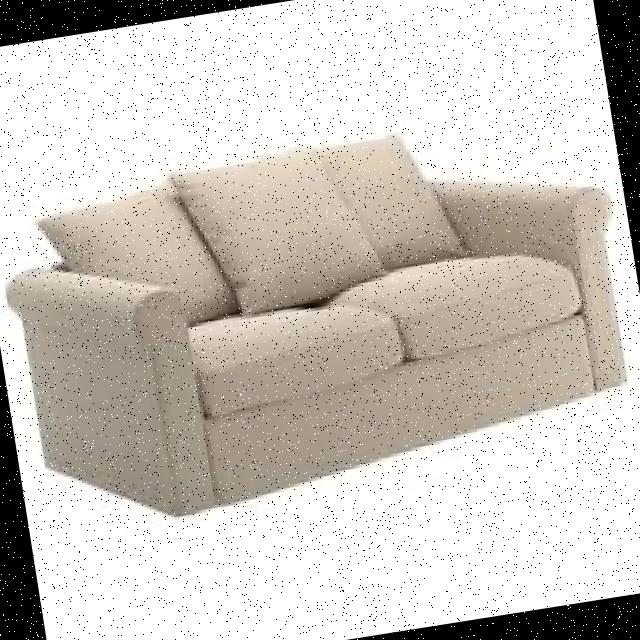Sofa: (0, 55, 640, 590)
